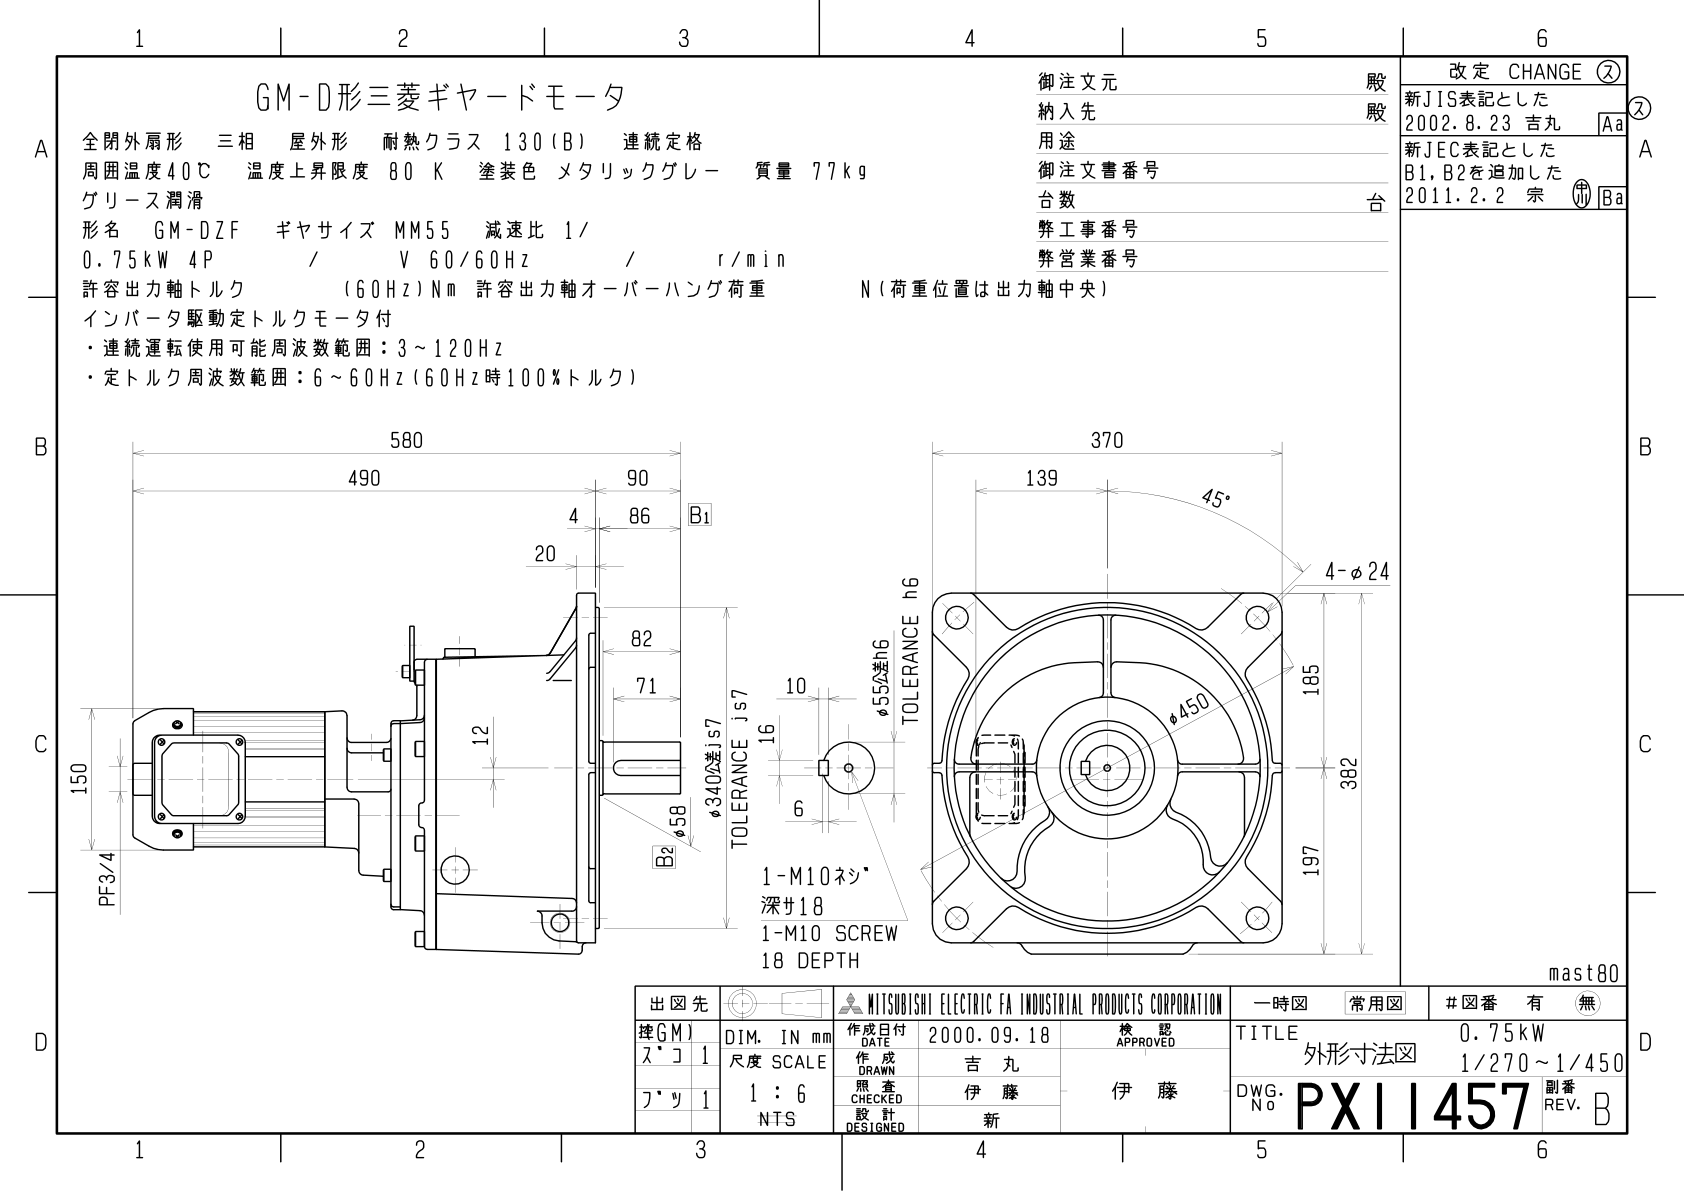GM_D_インバータ屋外_三相_フランジ: (67, 396, 1393, 967)
